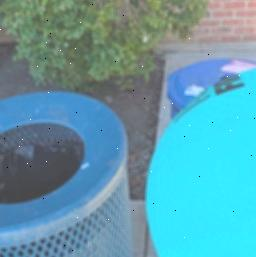algae: (150, 64, 256, 257)
